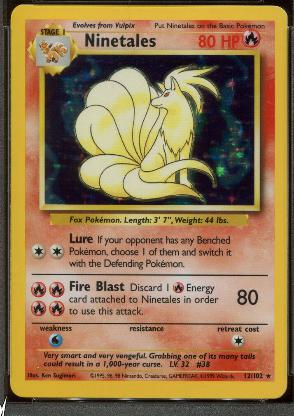Card: (10, 2, 288, 402)
